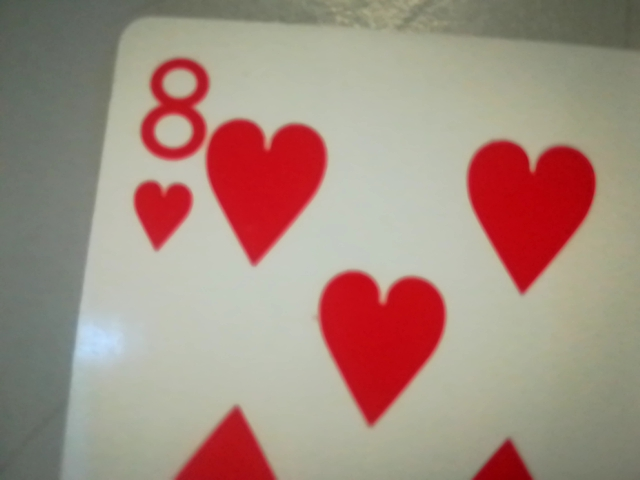hx 8: (120, 47, 214, 265)
